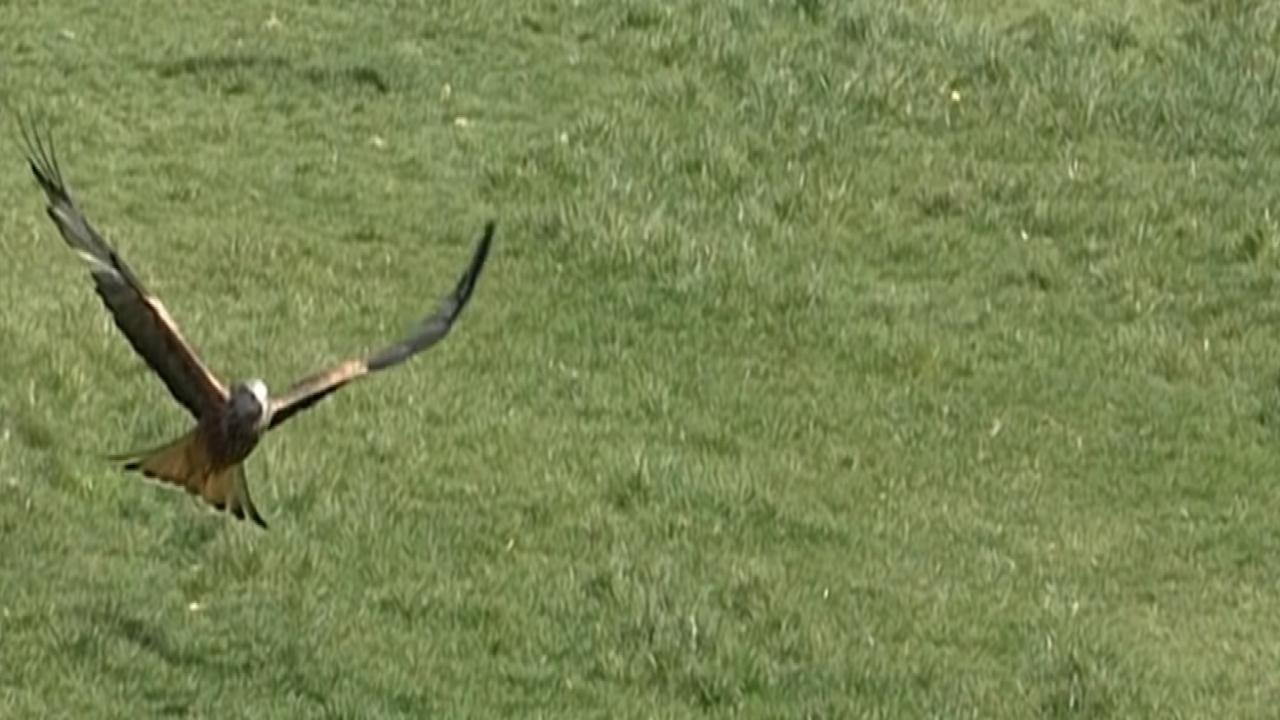Bird: (7, 89, 498, 540)
